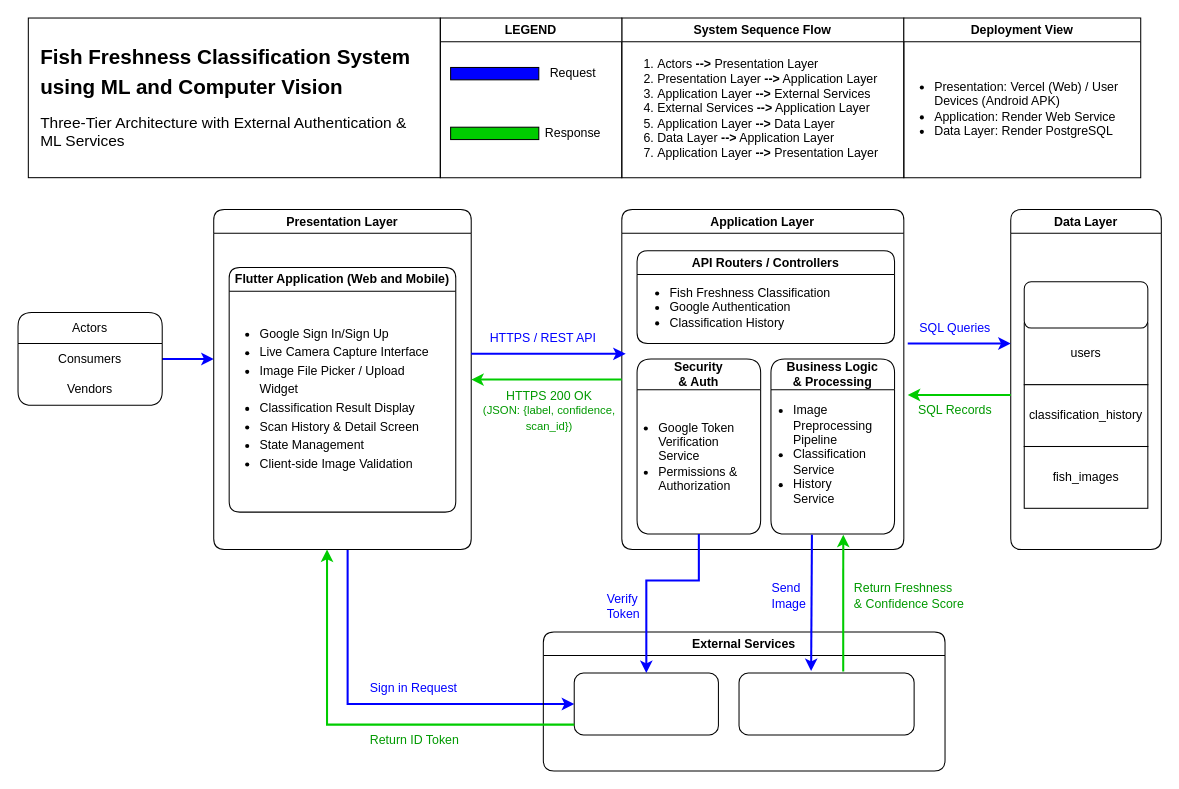
Some shapes in this 1179 by 789 pixel diagram are drawn without their labels. Each missing label, with the centre of its shape:
"Google OAuth" belongs at (645,703).
"ML Classification" belongs at (826,703).
"PostgreSQL Database" belongs at (1085,304).
